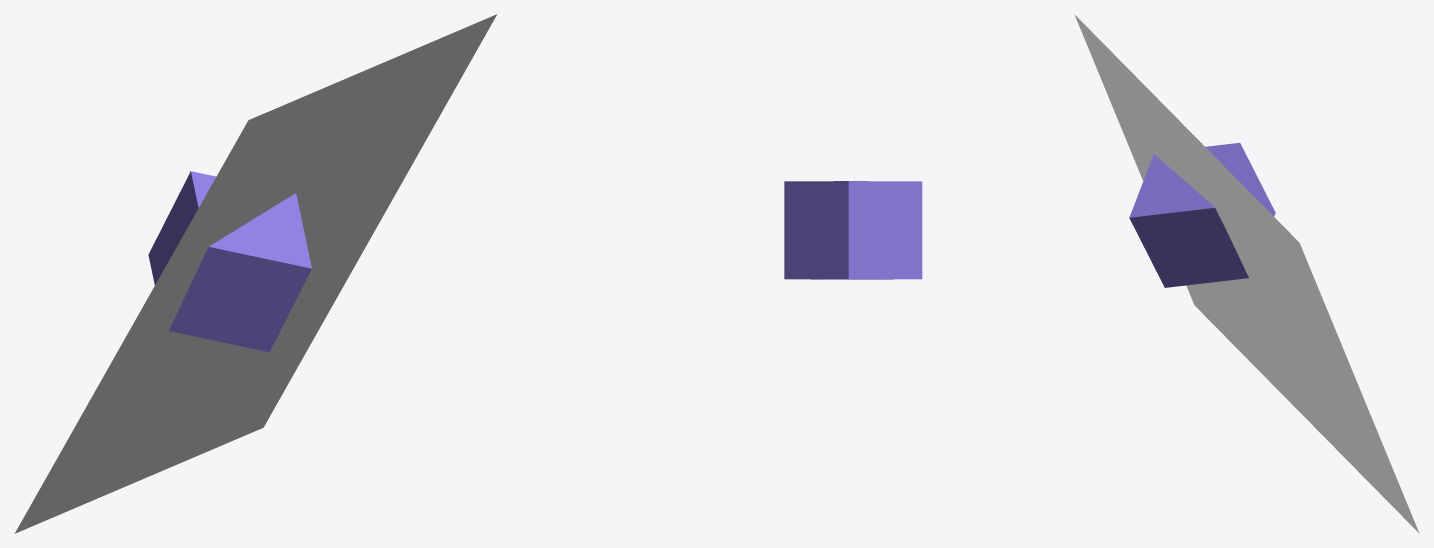
File: second-gltf.glb
The picture shows the model from 3 angles, left to right: view 1: azimuth 30°, elevation 25°; view 2: azimuth 150°, elevation 25°; view 3: azimuth 270°, elevation 25°; orthographic projection. The views are drawn at different scales.
Parts seen in each view (by area): view 1: Plane, Cube; view 2: Cube; view 3: Plane, Cube.
Part boxes in pixels (bbox=[...]): Plane: bbox=[14, 14, 497, 533]; Cube: bbox=[148, 171, 311, 352]; Cube: bbox=[784, 181, 922, 279]; Plane: bbox=[1074, 14, 1419, 533]; Cube: bbox=[1129, 142, 1275, 287].
Size of the model in its own units: 12.51 by 11.22 by 8.18.
